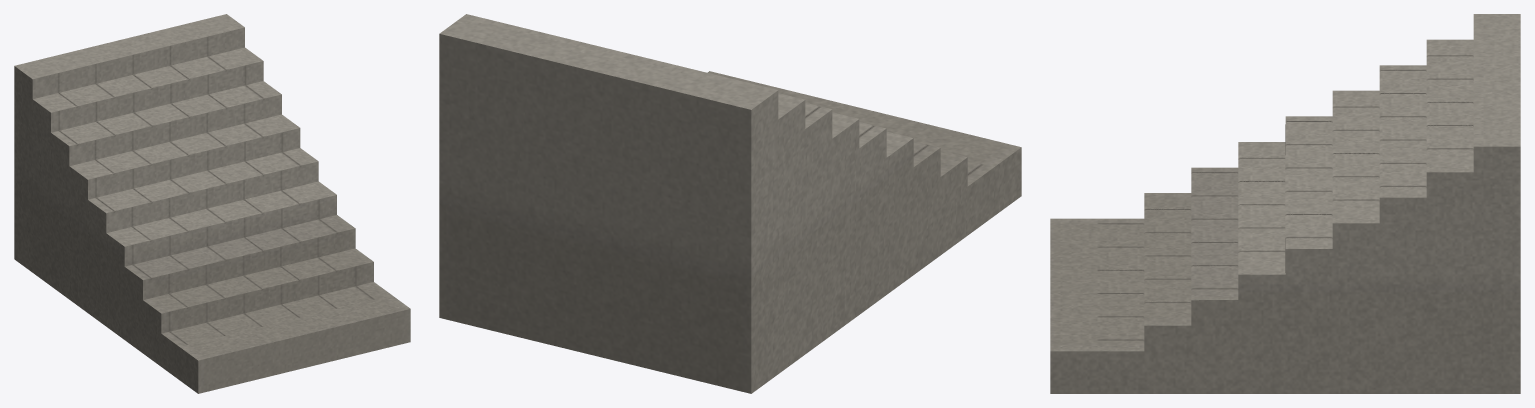
The model's file is bac_xuong_cat.glb.
3 views of the same model, side by side, from view 1: azimuth 30°, elevation 25°; view 2: azimuth 150°, elevation 25°; view 3: azimuth 270°, elevation 25° (orthographic). The views are drawn at different scales.
Parts seen in each view (by area): view 1: drawing; view 2: drawing; view 3: drawing.
Boxes of the visible parts, x1,y1,x2,y2 form: drawing: [14, 14, 410, 393]; drawing: [439, 14, 1021, 393]; drawing: [1050, 14, 1520, 393].
Bounding box in the file's own units: 2 × 1.74 × 3.
1 material, 1 textured.
